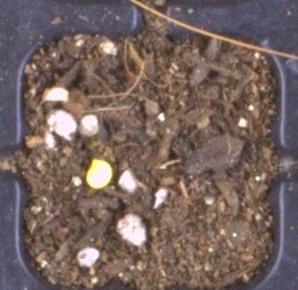chilli seed: (85, 158, 113, 190)
